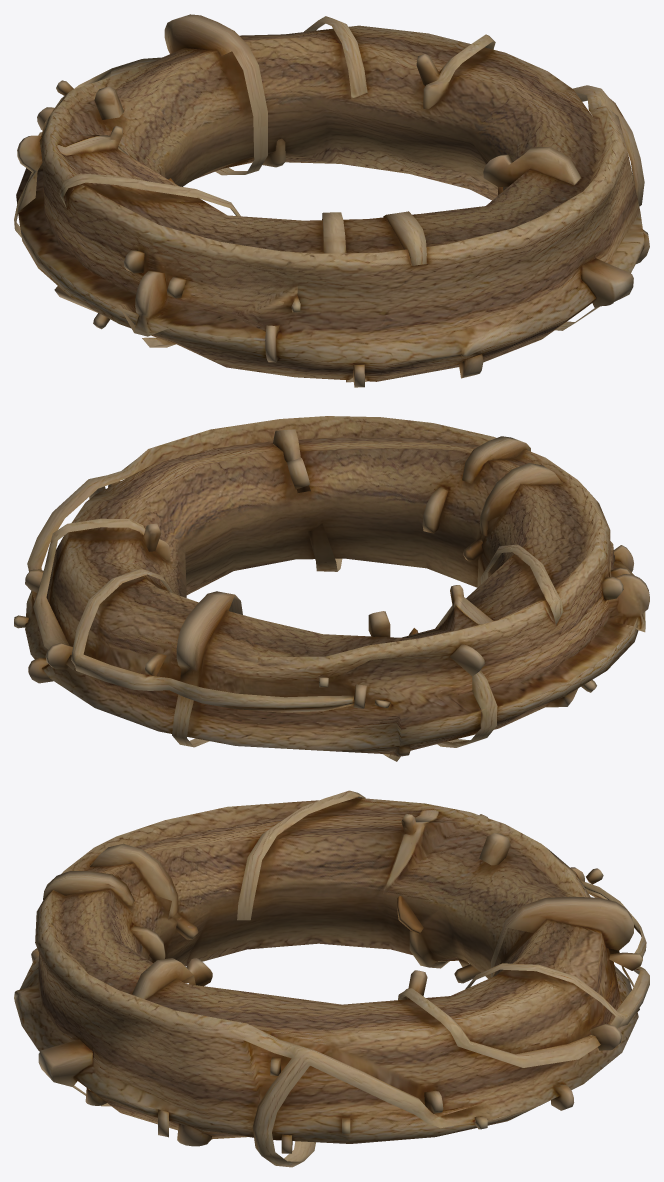
File: ribbon_string.glb
3 views of the same model, one above another, from view 1: azimuth 30°, elevation 25°; view 2: azimuth 150°, elevation 25°; view 3: azimuth 270°, elevation 25° (orthographic). The views are drawn at different scales.
Visible parts, largest first — view 1: tripo_node_37feecff-3f24-4d82-86cf-8fd701d07ce0; view 2: tripo_node_37feecff-3f24-4d82-86cf-8fd701d07ce0; view 3: tripo_node_37feecff-3f24-4d82-86cf-8fd701d07ce0.
Boxes of the visible parts, box(x1,y1,x2,y2) form: tripo_node_37feecff-3f24-4d82-86cf-8fd701d07ce0: box(14, 14, 649, 387); tripo_node_37feecff-3f24-4d82-86cf-8fd701d07ce0: box(14, 416, 649, 761); tripo_node_37feecff-3f24-4d82-86cf-8fd701d07ce0: box(14, 790, 649, 1167).
Size of the model in its own units: 0.9722 by 0.2769 by 0.9995.
Materials: 1 (1 with a texture image).
